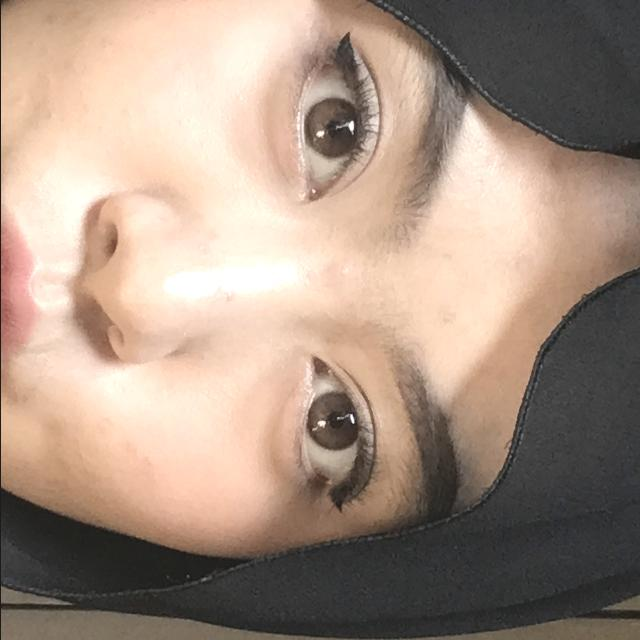sedih: (0, 0, 604, 340)
